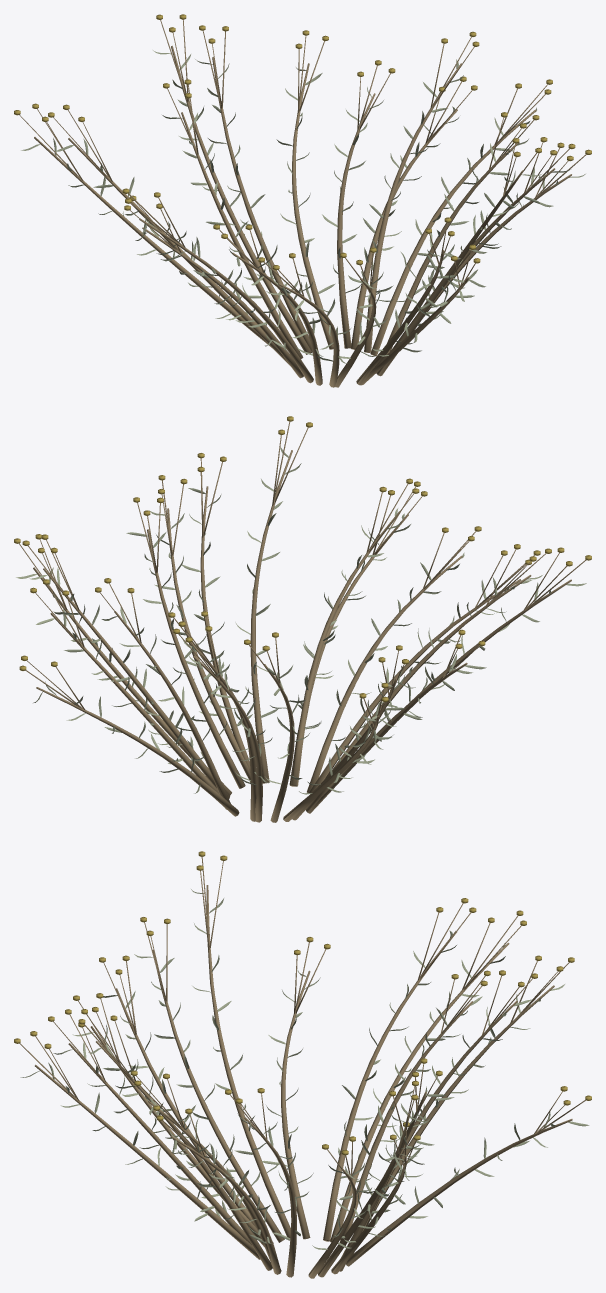
File: Immortelle_2_Niveau0.fbx
The picture shows the model from 3 angles, top to bottom: view 1: azimuth 30°, elevation 25°; view 2: azimuth 150°, elevation 25°; view 3: azimuth 270°, elevation 25°; orthographic projection. The views are drawn at different scales.
Parts seen in each view (by area): view 1: Immortelle_2_Niveau0; view 2: Immortelle_2_Niveau0; view 3: Immortelle_2_Niveau0.
Boxes of the visible parts, <box> form: Immortelle_2_Niveau0: <box>14,14,591,387</box>; Immortelle_2_Niveau0: <box>14,416,591,822</box>; Immortelle_2_Niveau0: <box>14,851,591,1278</box>.
Size of the model in its own units: 59.72 by 31.93 by 58.7.
